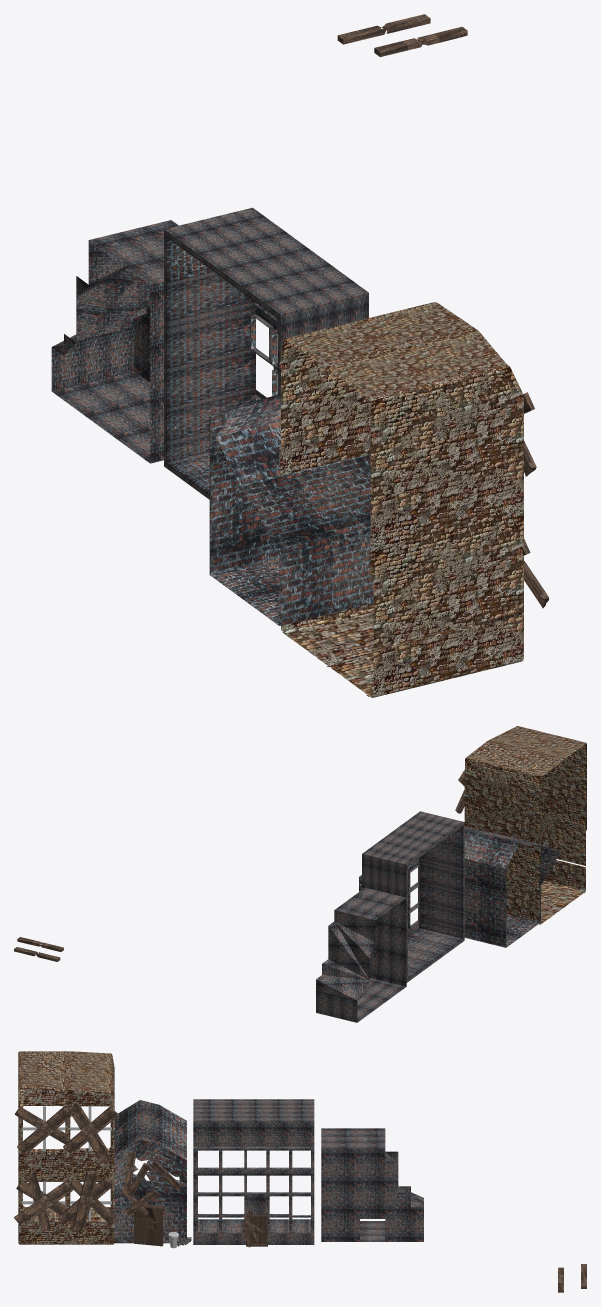
Rendered from work3dtexture.fbx.
3 renders of one model, top to bottom at view 1: azimuth 30°, elevation 25°; view 2: azimuth 150°, elevation 25°; view 3: azimuth 270°, elevation 25°, orthographic. The views are drawn at different scales.
Visible parts, largest first — view 1: pCube1, pCube40, pCube25, pCube53; view 2: pCube1, pCube40, pCube53, pCube25; view 3: pCube40, pCube1, pCube53, pCube25, pCube26, pCube17, pCube9, pCube13, pCube15, pCube14, pCube11, pCube41 (+4 smaller).
Part boxes in pixels (x1,y1,x2,y2): pCube1: (279,302,523,697); pCube40: (164,207,368,499); pCube25: (209,394,373,625); pCube53: (51,220,178,463); pCube1: (464,726,586,924); pCube40: (359,811,464,982); pCube53: (316,887,406,1022); pCube25: (464,826,559,947); pCube40: (193,1099,314,1244); pCube1: (18,1051,114,1244); pCube53: (321,1128,423,1241); pCube25: (114,1100,186,1243); pCube26: (133,1204,163,1246); pCube17: (68,1102,110,1161); pCube9: (14,1181,73,1226); pCube13: (17,1106,72,1154); pCube15: (72,1171,98,1231); pCube14: (63,1106,118,1154); pCube11: (58,1176,113,1224); pCube41: (246,1215,267,1246).
Size of the model in its own units: 340 by 149 by 496.
